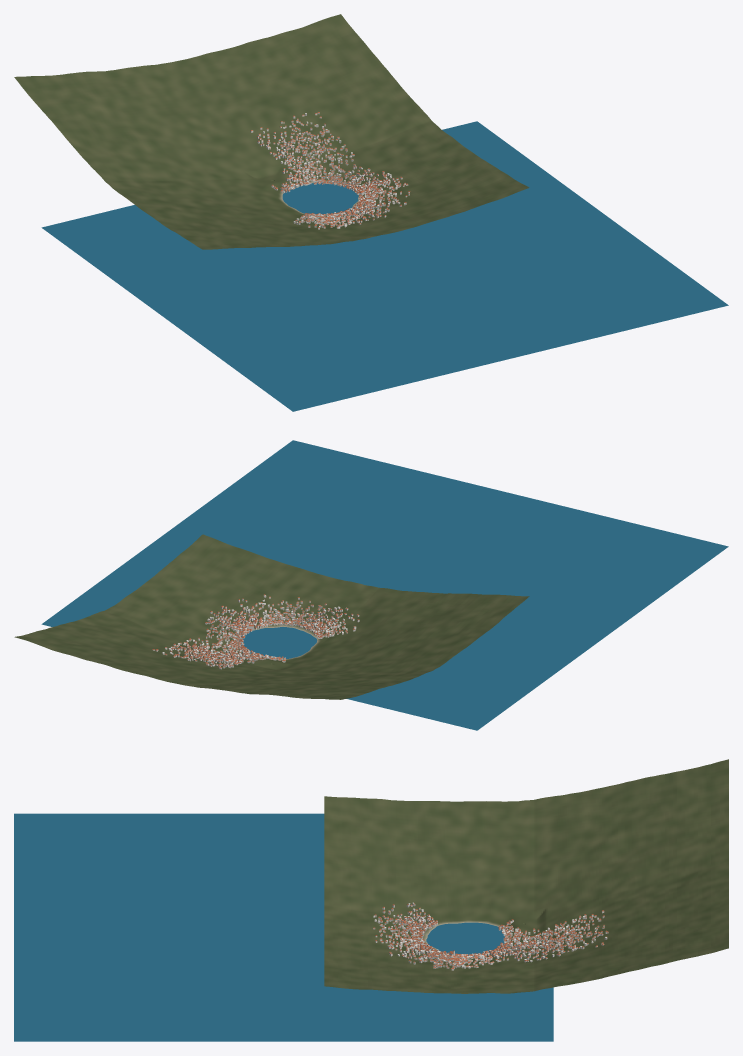
Rendered from land.glb.
3 views of the same model, one above another, from view 1: azimuth 30°, elevation 25°; view 2: azimuth 150°, elevation 25°; view 3: azimuth 270°, elevation 25° (orthographic). The views are drawn at different scales.
Visible parts, largest first — view 1: Sea, Terrain, Village_white, Village_roofs; view 2: Sea, Terrain, Village_white, Village_roofs; view 3: Sea, Terrain, Village_white, Village_roofs.
Boxes of the visible parts, <box> form: Sea: <box>41,121,728,411</box>; Terrain: <box>14,14,529,249</box>; Village_white: <box>250,112,409,229</box>; Village_roofs: <box>250,112,410,227</box>; Sea: <box>41,440,728,730</box>; Terrain: <box>14,534,529,699</box>; Village_white: <box>152,595,359,669</box>; Village_roofs: <box>152,594,359,667</box>; Sea: <box>14,813,553,1041</box>; Terrain: <box>324,759,728,993</box>; Village_white: <box>373,902,608,970</box>; Village_roofs: <box>373,903,608,968</box>.
Size of the model in its own units: 2000 by 363 by 2650.
